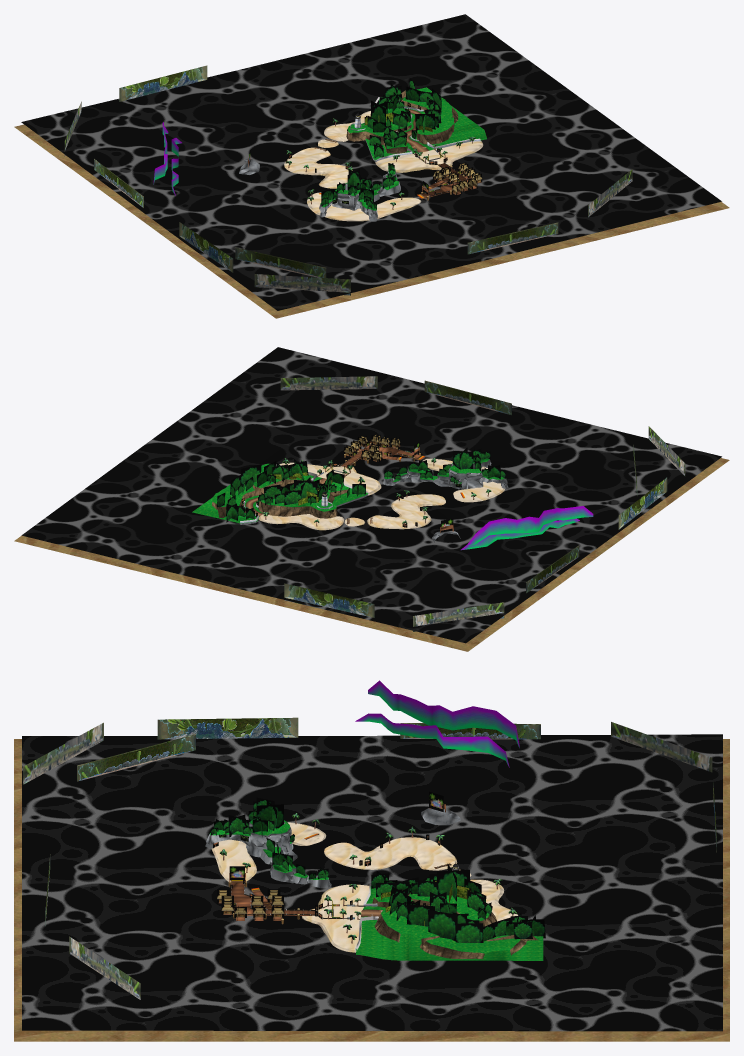
3 views of the same model, one above another, from view 1: azimuth 30°, elevation 25°; view 2: azimuth 150°, elevation 25°; view 3: azimuth 270°, elevation 25° (orthographic). The views are drawn at different scales.
Parts seen in each view (by area): view 1: water.017, islands.001, sand_coral.001, sand.008, shrub.001, grass.032, cliff_gray.001, cliff.007, sand_1.001, house.003, aroura.001, wood_beams.001; view 2: water.017, islands.001, sand_coral.001, shrub.001, sand.008, aroura.001, grass.032, cliff_gray.001, cliff.007, house.003, sand_1.001, wood_beams.001; view 3: water.017, sand_coral.001, islands.001, shrub.001, sand.008, grass.032, aroura.001, cliff_gray.001, cliff.007, house.003, sand_1.001, wood_beams.001 (+1 smaller).
Part boxes in pixels (bbox=[...]): water.017: bbox=[21, 14, 721, 310]; islands.001: bbox=[64, 65, 632, 295]; sand_coral.001: bbox=[14, 124, 729, 318]; sand.008: bbox=[285, 111, 480, 220]; shrub.001: bbox=[321, 78, 441, 209]; grass.032: bbox=[320, 87, 486, 210]; cliff_gray.001: bbox=[239, 140, 400, 221]; cliff.007: bbox=[346, 90, 458, 153]; sand_1.001: bbox=[284, 111, 482, 221]; house.003: bbox=[433, 162, 482, 195]; aroura.001: bbox=[153, 122, 181, 195]; wood_beams.001: bbox=[248, 158, 481, 199]; water.017: bbox=[21, 347, 721, 643]; islands.001: bbox=[280, 376, 685, 631]; sand_coral.001: bbox=[14, 458, 729, 651]; shrub.001: bbox=[217, 447, 505, 522]; sand.008: bbox=[260, 458, 503, 528]; aroura.001: bbox=[461, 506, 593, 550]; grass.032: bbox=[192, 458, 505, 523]; cliff_gray.001: bbox=[240, 460, 508, 542]; cliff.007: bbox=[212, 477, 347, 519]; house.003: bbox=[344, 434, 400, 462]; sand_1.001: bbox=[258, 458, 504, 529]; wood_beams.001: bbox=[341, 443, 453, 532]; water.017: bbox=[22, 734, 722, 1031]; sand_coral.001: bbox=[14, 739, 729, 1041]; islands.001: bbox=[23, 717, 716, 999]; shrub.001: bbox=[211, 797, 545, 942]; sand.008: bbox=[213, 823, 515, 950]; grass.032: bbox=[210, 819, 543, 960]; aroura.001: bbox=[355, 680, 519, 767]; cliff_gray.001: bbox=[205, 808, 460, 888]; cliff.007: bbox=[372, 892, 538, 959]; house.003: bbox=[217, 889, 284, 921]; sand_1.001: bbox=[211, 822, 517, 952]; wood_beams.001: bbox=[219, 804, 445, 920].
Size of the model in its own units: 173271 by 20262 by 173271.
35 materials, 35 textured.
